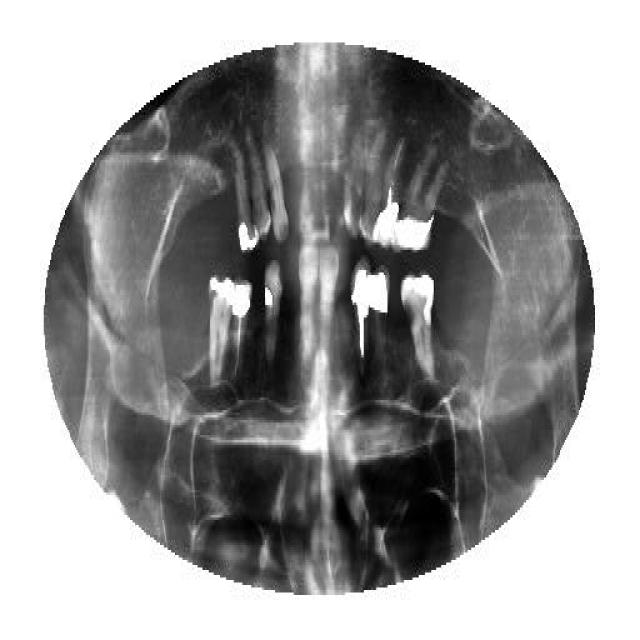Fillings: (400, 140, 445, 255), (399, 270, 435, 375), (375, 135, 404, 250), (232, 143, 258, 255), (262, 258, 284, 368), (369, 262, 391, 340)
Implant: (230, 282, 256, 378), (350, 252, 372, 362)
